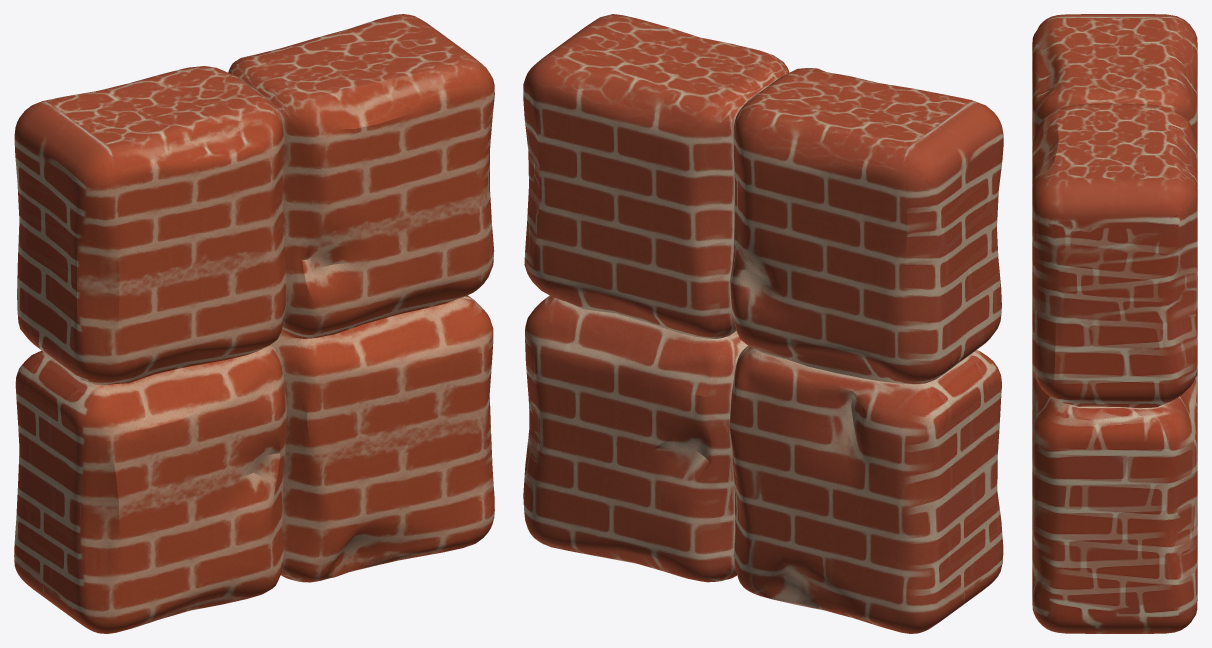
File: brick_L_redbrick_old.glb
The picture shows the model from 3 angles, left to right: view 1: azimuth 30°, elevation 25°; view 2: azimuth 150°, elevation 25°; view 3: azimuth 270°, elevation 25°; orthographic projection. The views are drawn at different scales.
Parts seen in each view (by area): view 1: Mesh_0; view 2: Mesh_0; view 3: Mesh_0.
Part boxes in pixels (bbox=[...]): Mesh_0: bbox=[14, 14, 494, 633]; Mesh_0: bbox=[523, 14, 1003, 633]; Mesh_0: bbox=[1032, 14, 1197, 633].
Bounding box in the file's own units: 1.7 × 1.9 × 0.6296.
Materials: 1 (1 with a texture image).
